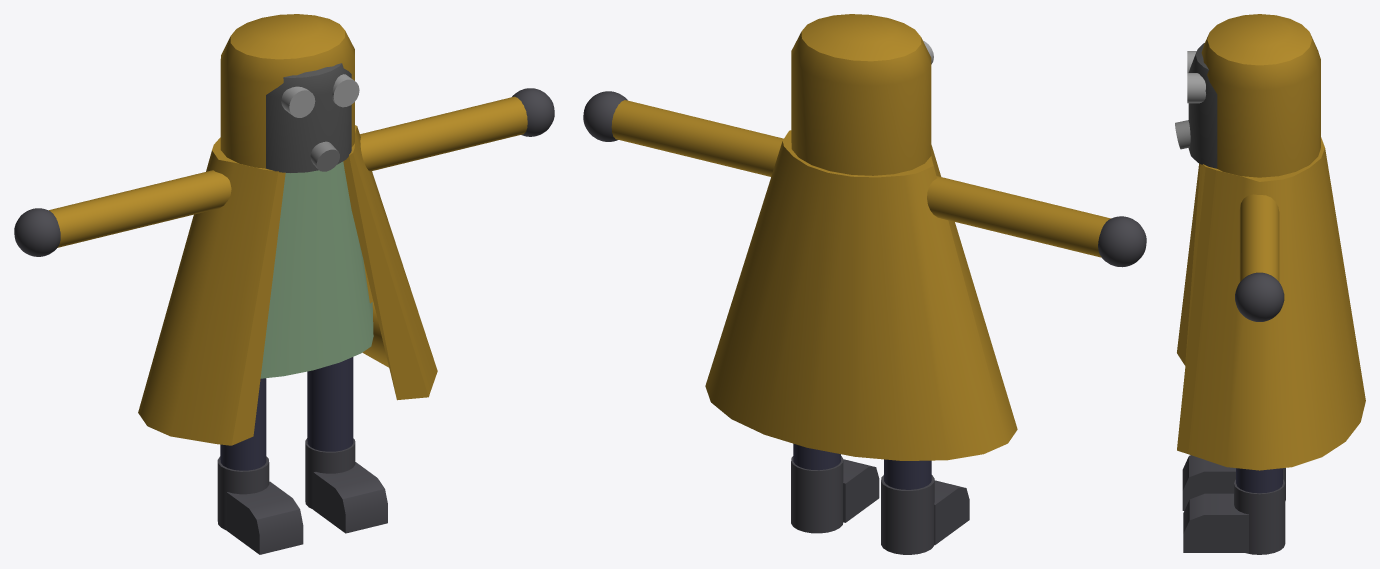
Rendered from HazmatGoonV1 (1).fbx.
3 renders of one model, left to right at view 1: azimuth 30°, elevation 25°; view 2: azimuth 150°, elevation 25°; view 3: azimuth 270°, elevation 25°, orthographic. The views are drawn at different scales.
Parts seen in each view (by area): view 1: pasted__pCylinder5; view 2: pasted__pCylinder5; view 3: pasted__pCylinder5.
Boxes of the visible parts, left/top/right/bottom form: pasted__pCylinder5: left=14, top=14, right=554, bottom=554; pasted__pCylinder5: left=583, top=14, right=1146, bottom=554; pasted__pCylinder5: left=1175, top=14, right=1365, bottom=554.
Size of the model in its own units: 5.19 by 4.49 by 1.58.
